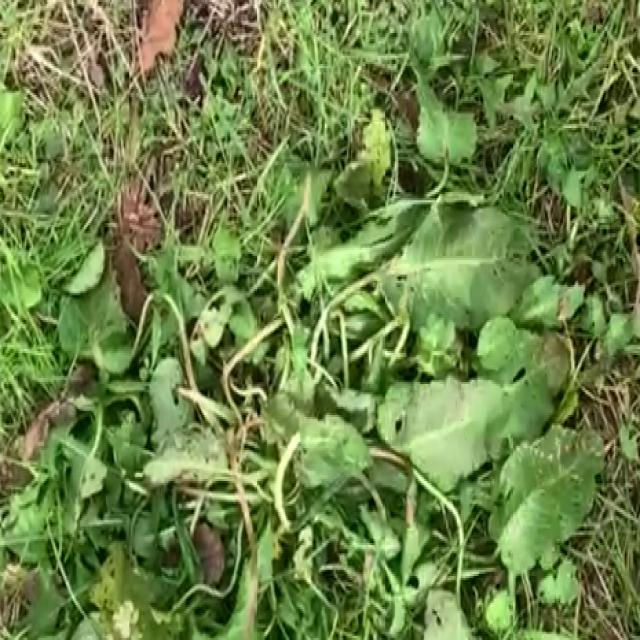organic waste: (76, 107, 607, 632)
